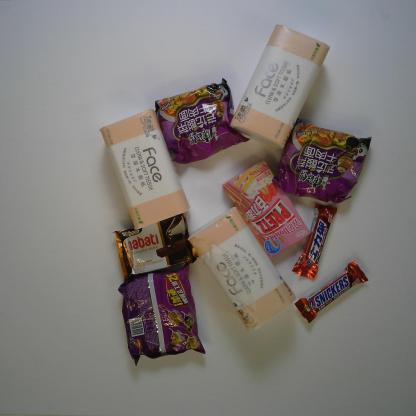Chocolate: (294, 259, 369, 324), (291, 201, 339, 284)
Dessert: (222, 158, 313, 259), (113, 212, 200, 276)
Instant Noodles: (117, 260, 206, 367), (271, 119, 374, 205), (151, 77, 250, 166)
Tissue: (186, 205, 297, 332), (230, 23, 331, 153), (97, 107, 191, 231)
